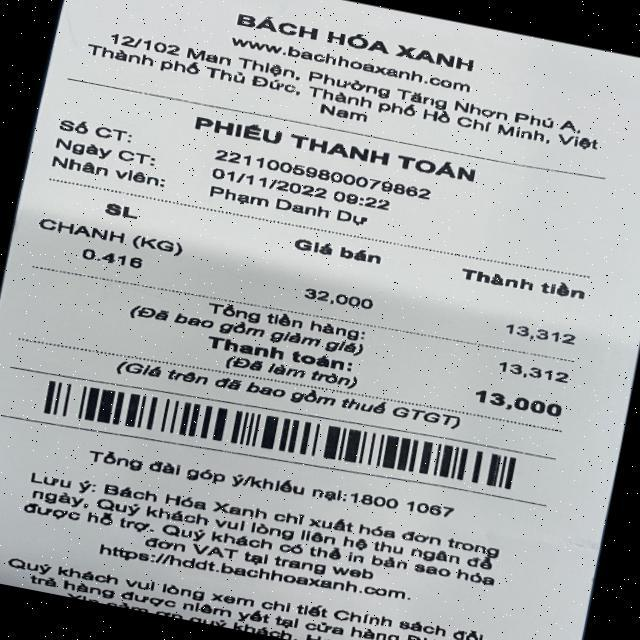Date: (189, 160, 332, 206)
Store_Name: (209, 0, 496, 85)
amount_number: (464, 383, 568, 426)
label_total: (198, 332, 360, 374)
